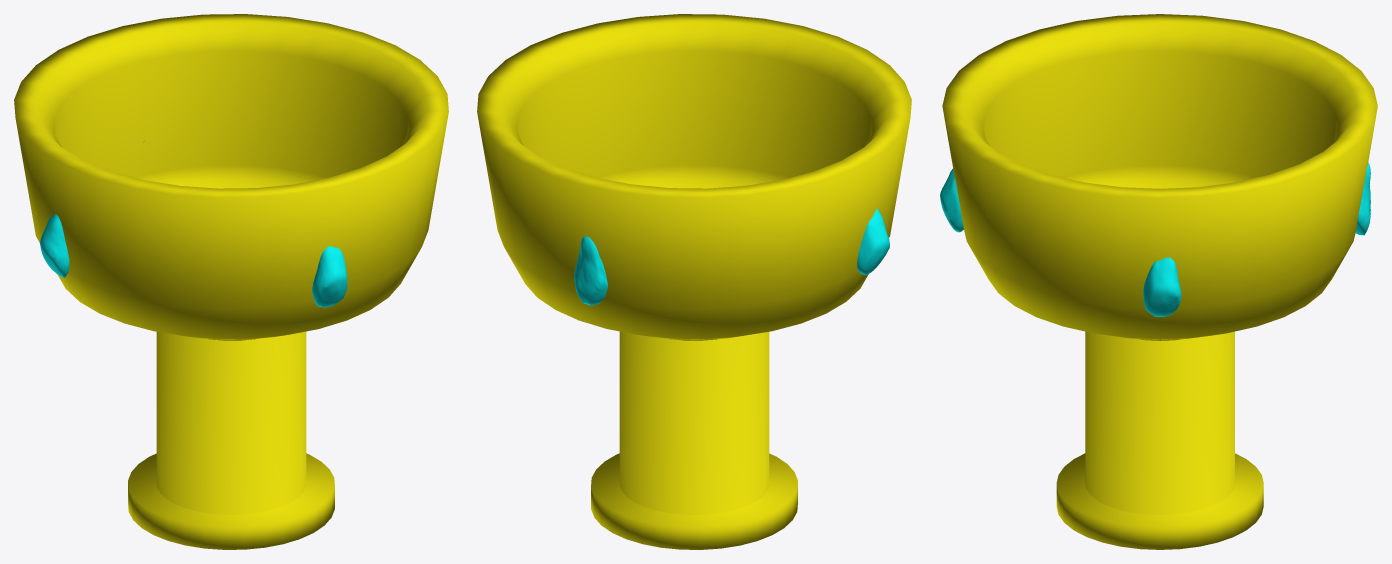
Rendered from cup.fbx.
3 renders of one model, left to right at view 1: azimuth 30°, elevation 25°; view 2: azimuth 150°, elevation 25°; view 3: azimuth 270°, elevation 25°, orthographic.
Parts seen in each view (by area): view 1: Cylinder, rock.003, rock.005; view 2: Cylinder, rock, rock.005; view 3: Cylinder, rock.004, rock.003, rock.
Part boxes in pixels (<box>): Cylinder: <box>14,14,448,549</box>; rock.003: <box>312,246,347,307</box>; rock.005: <box>40,214,69,277</box>; Cylinder: <box>477,14,911,549</box>; rock: <box>574,236,607,305</box>; rock.005: <box>857,208,889,275</box>; Cylinder: <box>942,14,1377,549</box>; rock.004: <box>1143,257,1181,316</box>; rock.003: <box>940,169,963,232</box>; rock: <box>1355,162,1370,235</box>.
Size of the model in its own units: 50.12 by 50.36 by 49.94.
